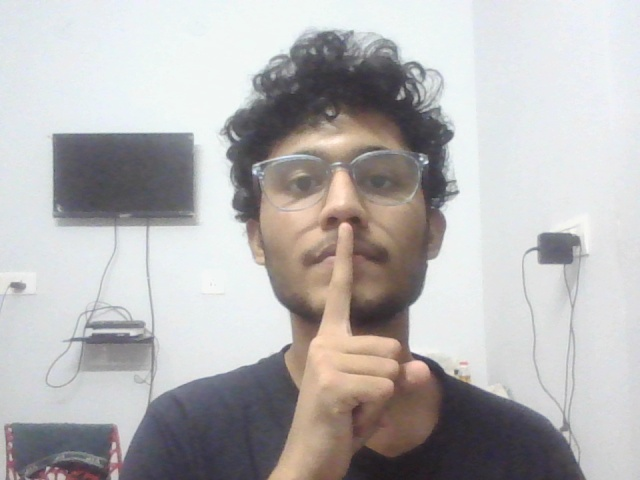Quiet: (257, 209, 452, 480)
